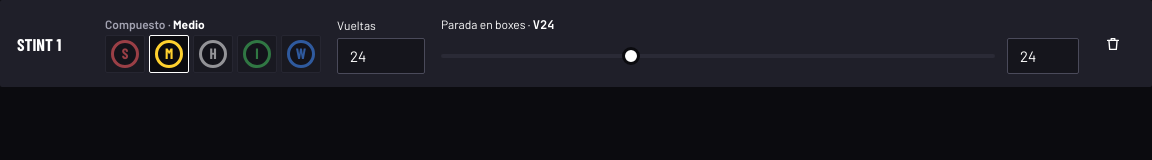
Scenario: StintRow › shows the stint laps again when the field loses focus empty
Step 1. Clear the number field named "Vueltas del stint 1" → (381, 56), box [337,38,425,74]
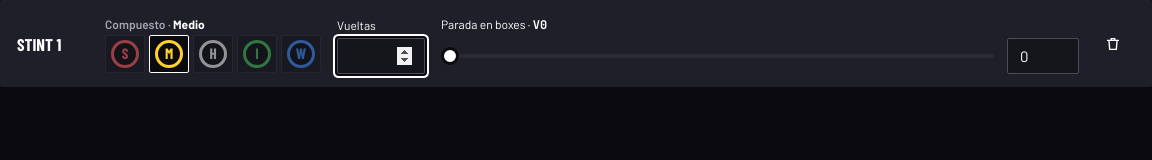
Step 2. Press Tab
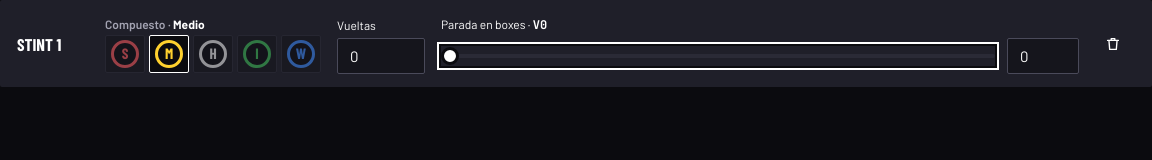
Expected: the number field named "Vueltas del stint 1" holds "0", [337,38,425,74]
